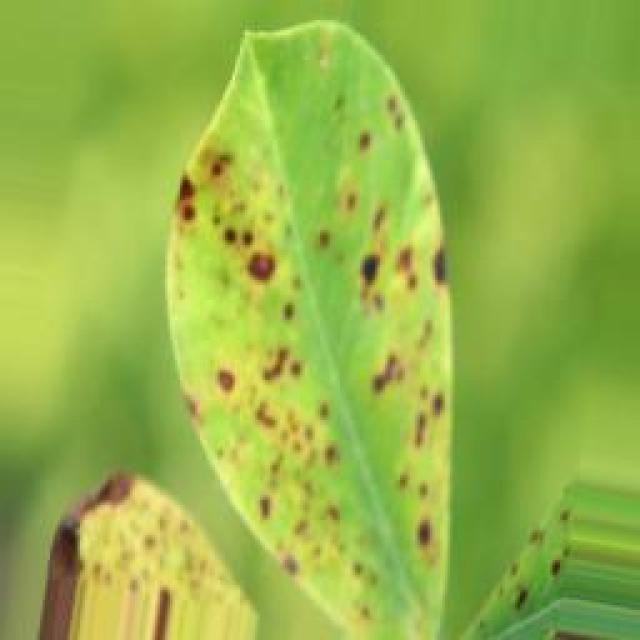Yellowish: (55, 72, 583, 620)
